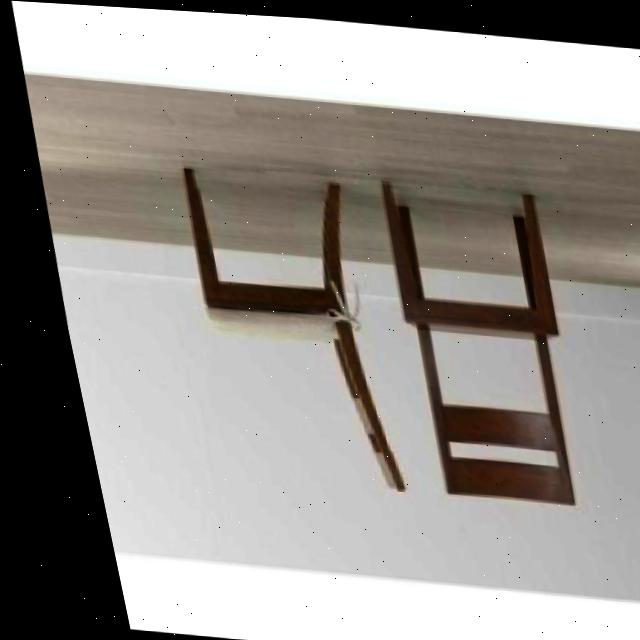sandalye: (161, 165, 396, 491), (358, 176, 578, 503)
